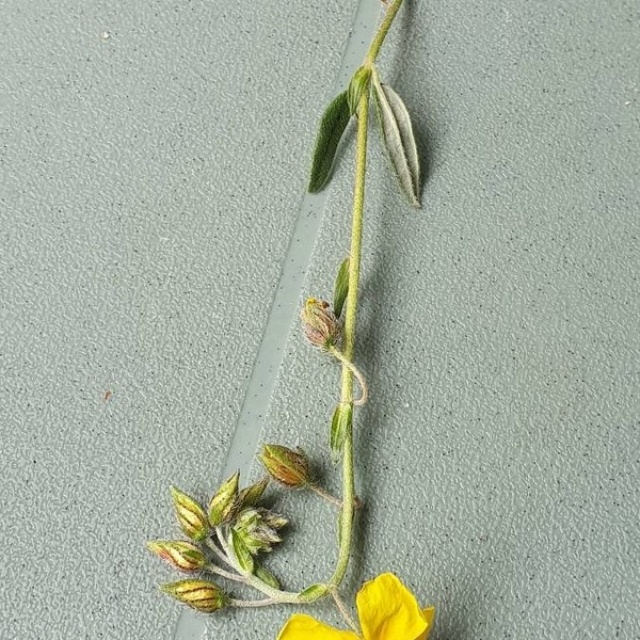obstacle: (180, 41, 461, 630)
